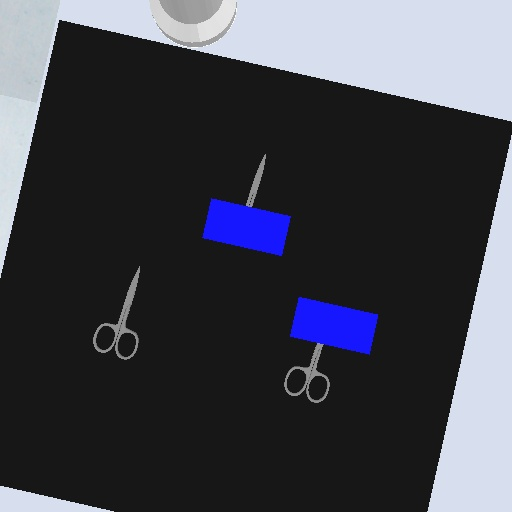tijera: (90, 264, 145, 362), (282, 342, 332, 407), (243, 152, 270, 210)
